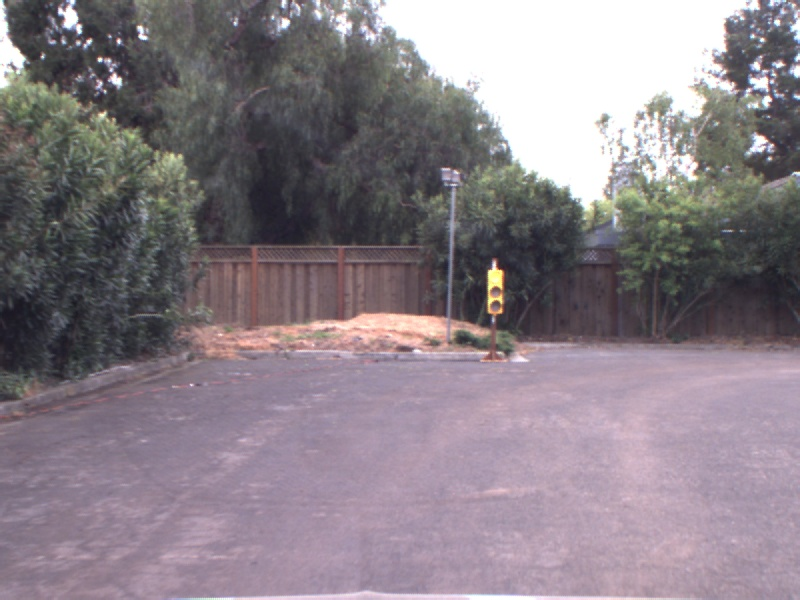red: (485, 263, 506, 317)
